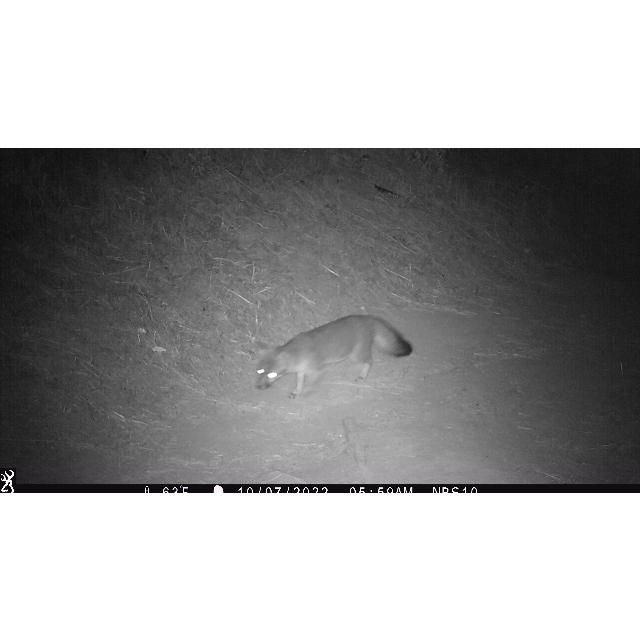animals: (253, 313, 414, 402)
